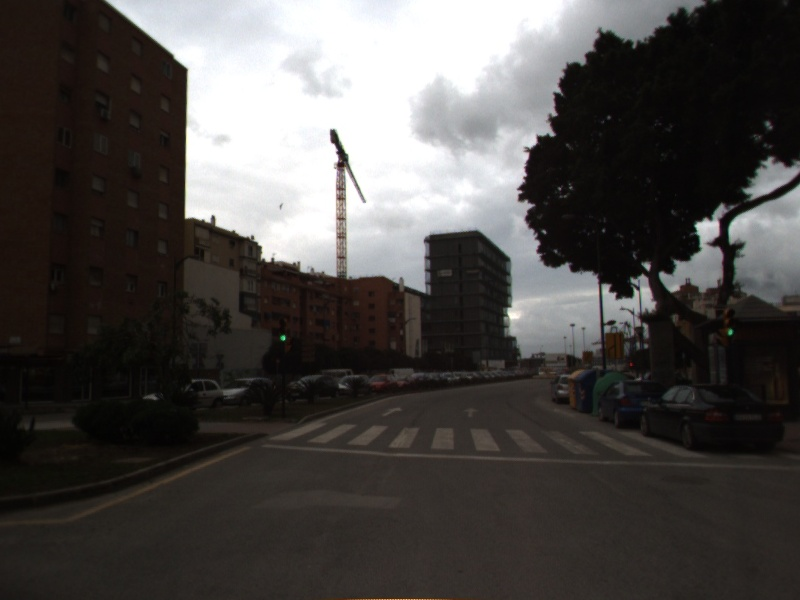STRAIGHT: (379, 405, 404, 419), (461, 405, 481, 419)
